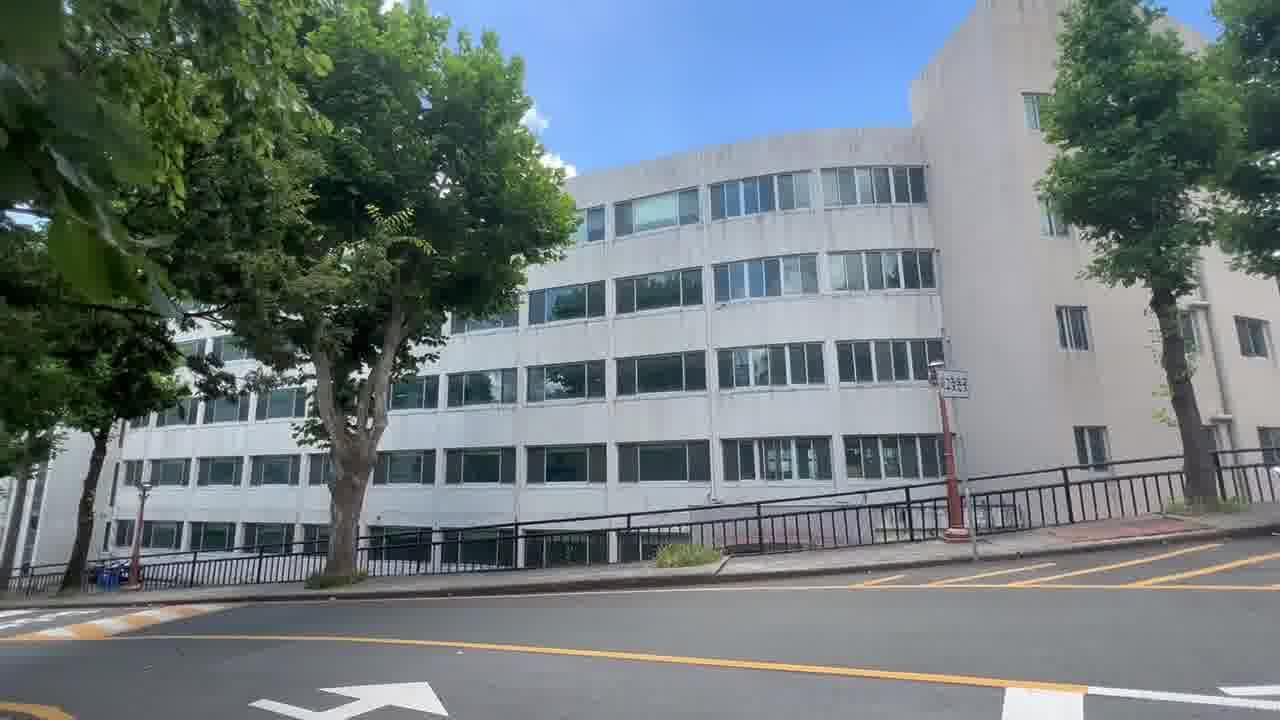building: (572, 107, 1059, 562)
